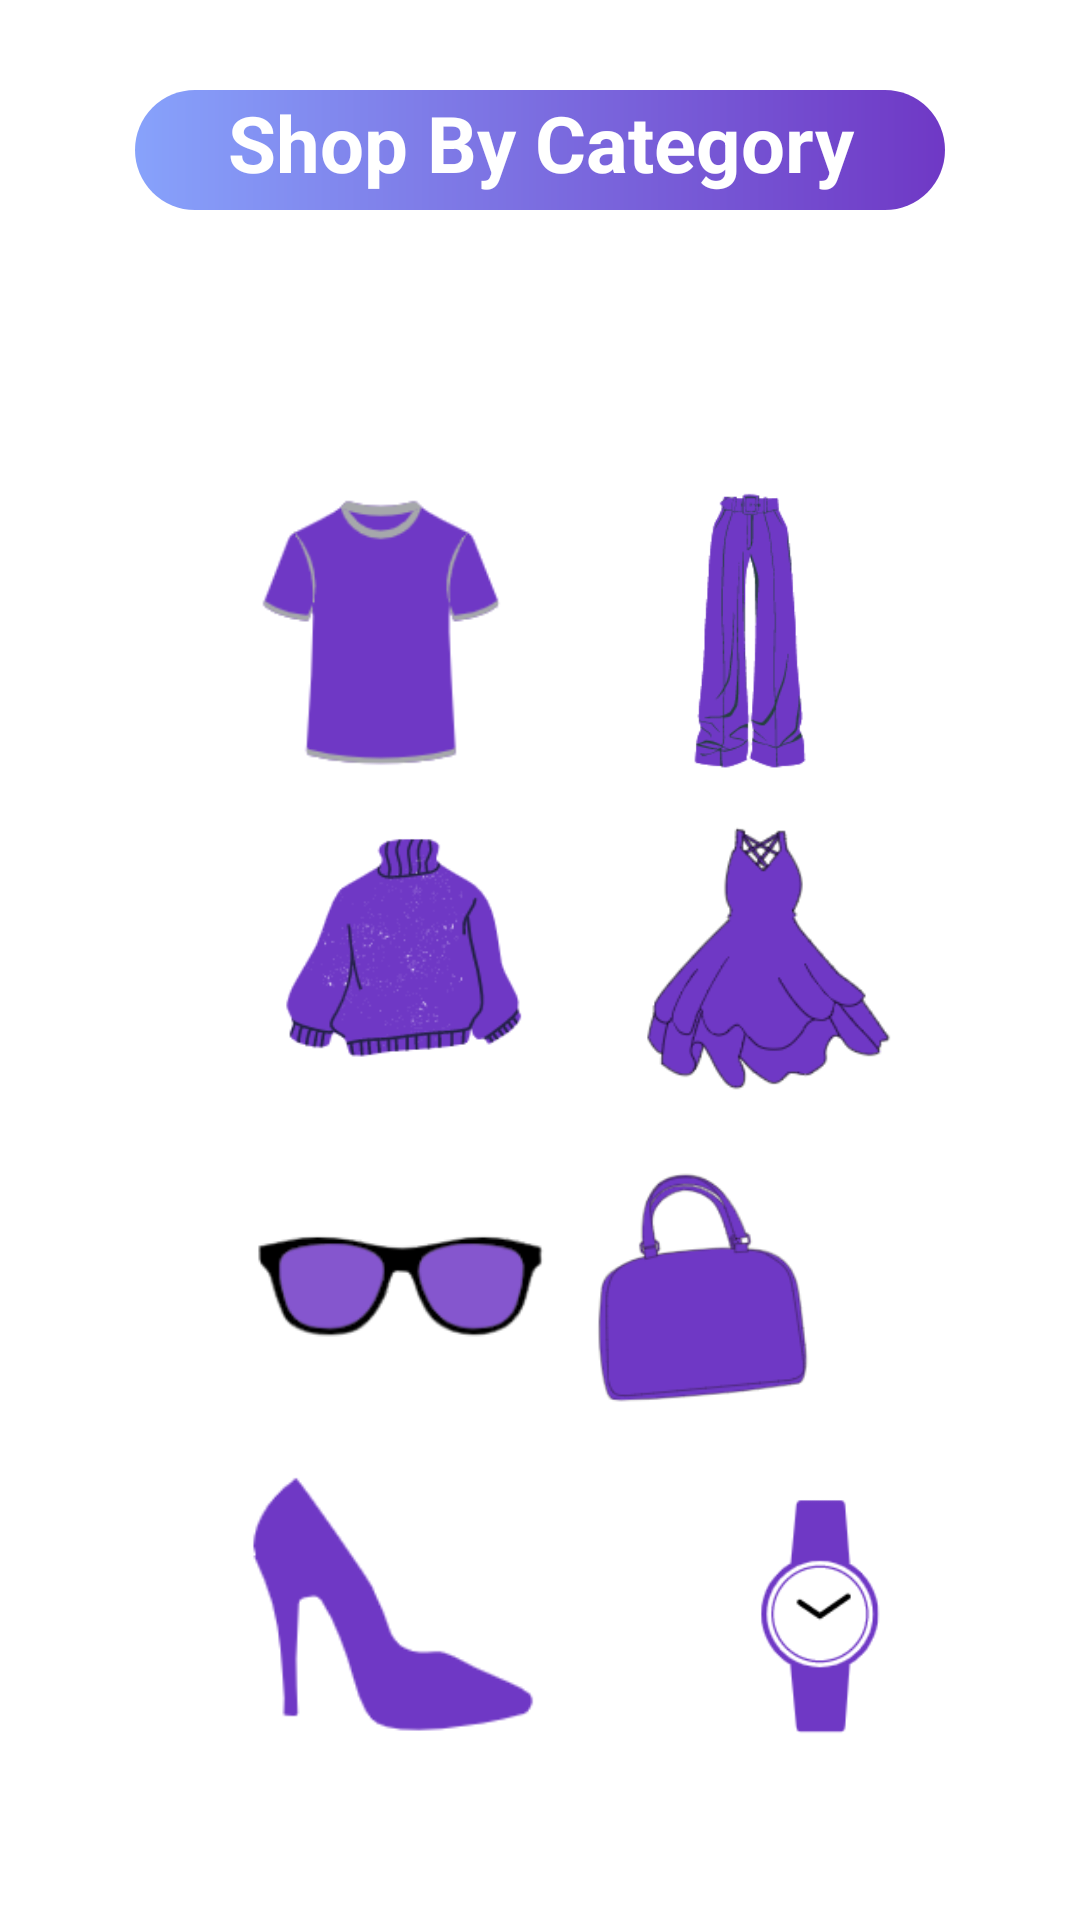

Icon click points for this 1080 x 1920 phone screenshot, format point (x, y):
dress: point (768, 958)
footwear: point (393, 1604)
purse: point (702, 1288)
sunglasses: point (400, 1286)
sweater: point (403, 948)
trousers: point (750, 631)
tshirtstops: point (381, 633)
watch: point (820, 1616)
